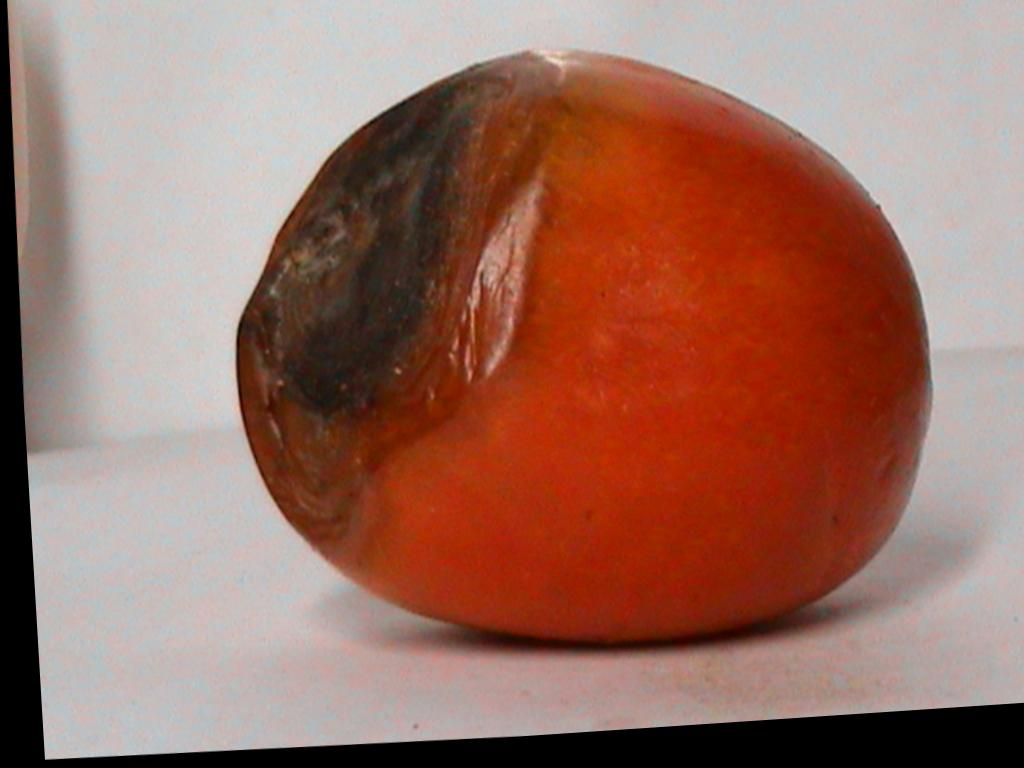rot_mold_decay: (239, 56, 560, 551)
tomato: (238, 51, 930, 639)
